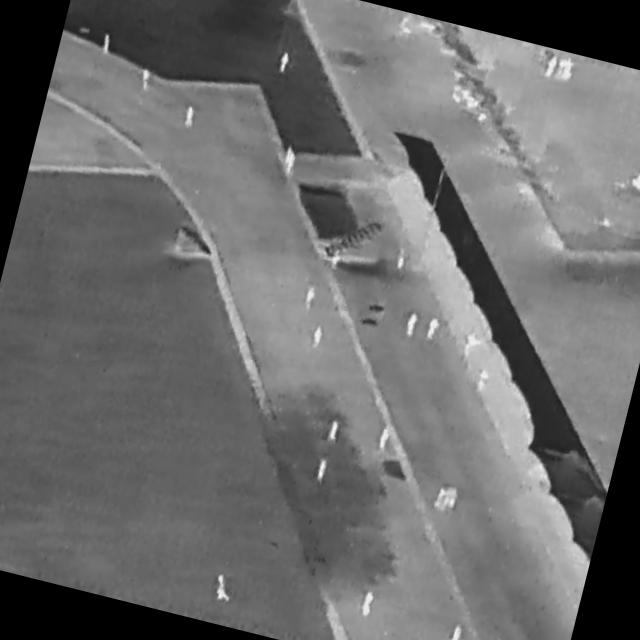person: (213, 573, 237, 604), (283, 144, 300, 176), (476, 367, 493, 398), (405, 310, 421, 339), (361, 590, 377, 618), (310, 324, 326, 351), (377, 426, 392, 452), (426, 317, 441, 341), (327, 420, 342, 444), (545, 55, 559, 80), (316, 458, 329, 484), (448, 486, 461, 511), (563, 58, 576, 82), (304, 286, 317, 310), (331, 247, 344, 271), (140, 69, 153, 93), (395, 248, 408, 270), (434, 487, 447, 509), (184, 106, 197, 127), (556, 58, 568, 80), (441, 488, 453, 510), (101, 33, 113, 55), (279, 52, 291, 73), (450, 624, 464, 640)
